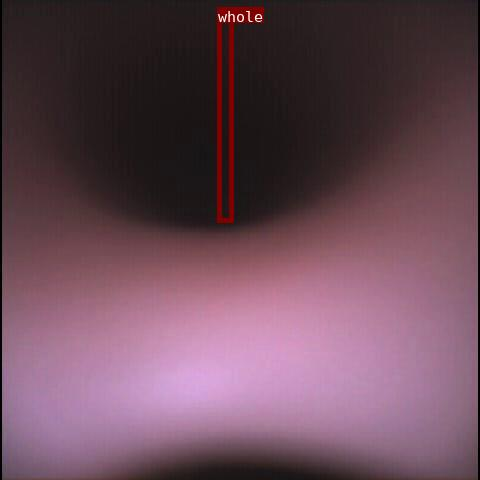whole: (217, 7, 233, 222)
